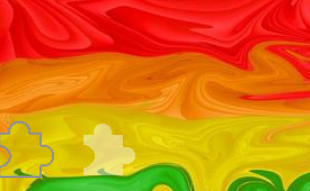target: (83, 122, 136, 176)
